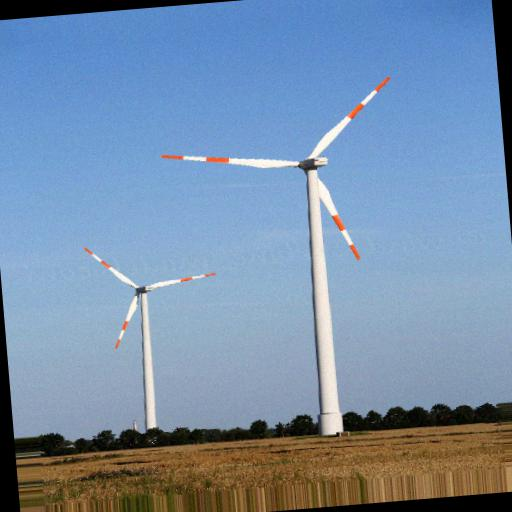wind turbine: (160, 76, 396, 434), (81, 245, 218, 437)
